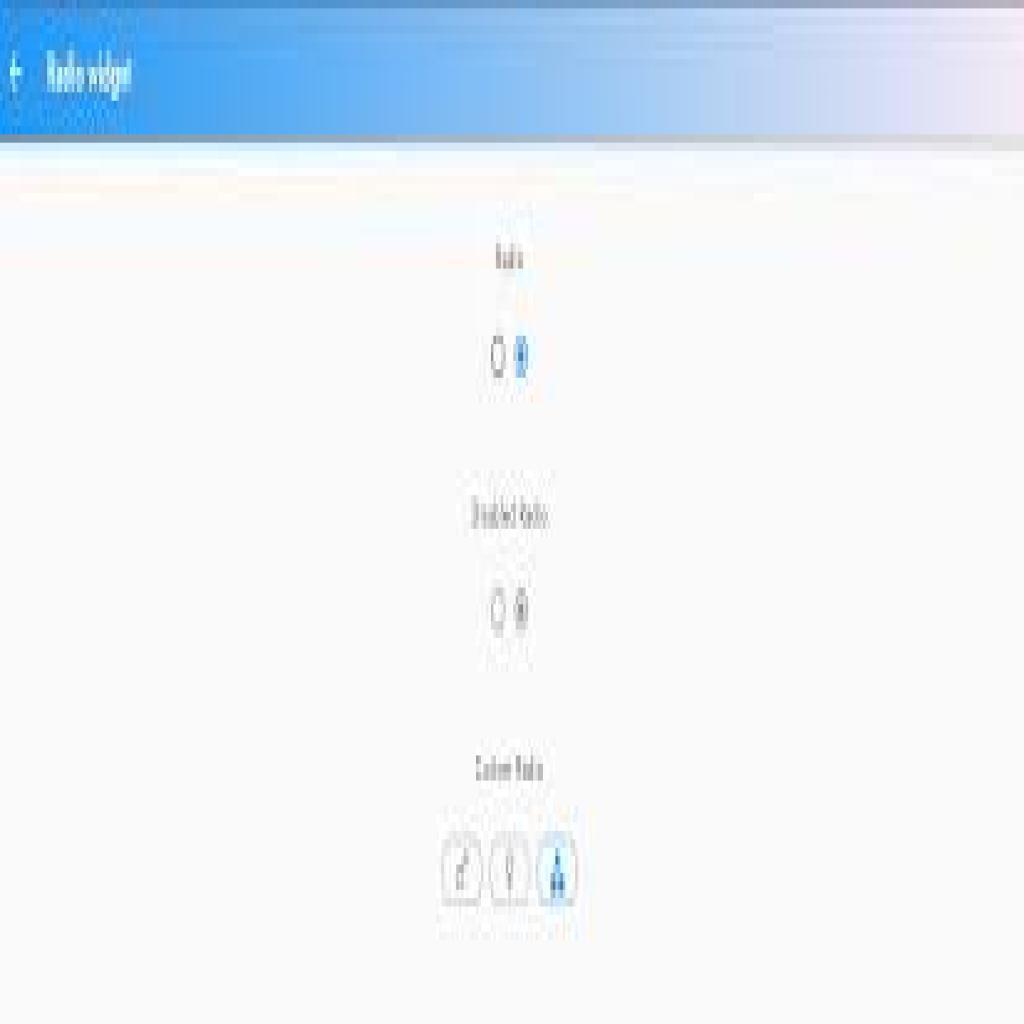radio: (488, 333, 509, 377), (512, 588, 531, 634), (490, 588, 507, 639), (513, 334, 531, 380)
